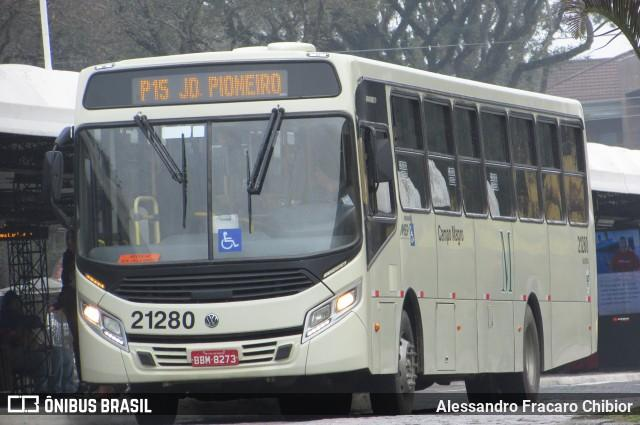JD PIONEIRO: (172, 70, 286, 104)
